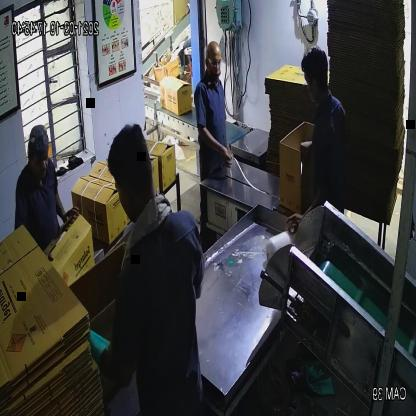no_glove: (192, 114, 239, 173), (52, 189, 84, 237)
